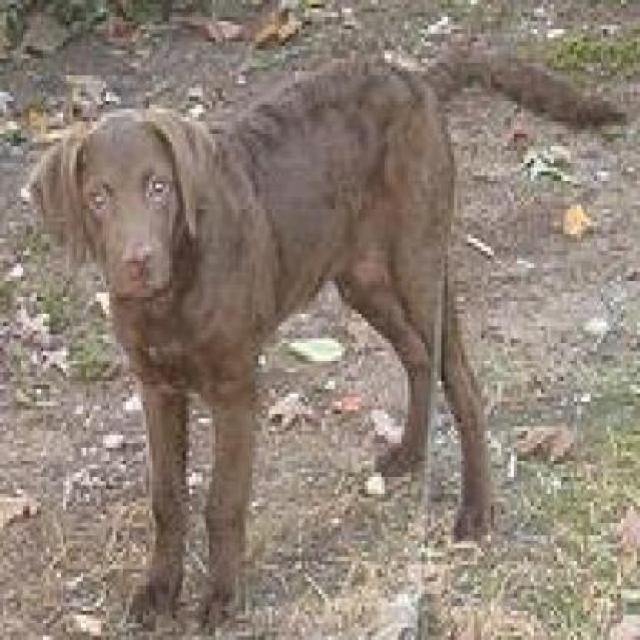Dog: (29, 9, 625, 626)
